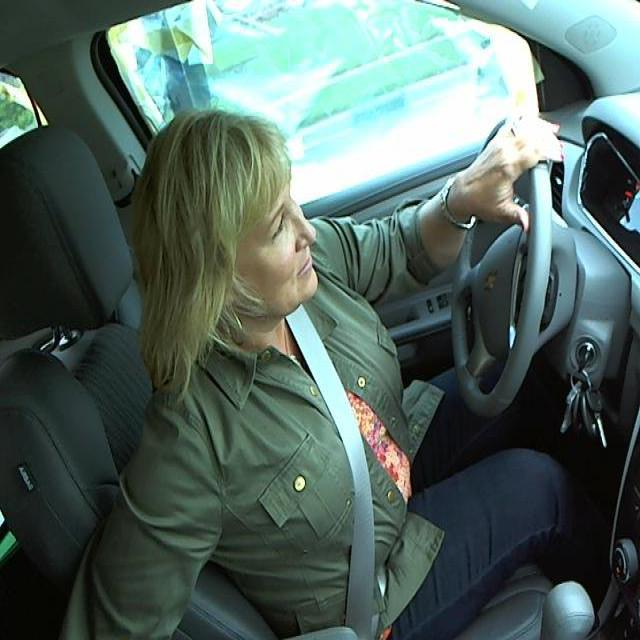seatbelt: (297, 330, 391, 634)
